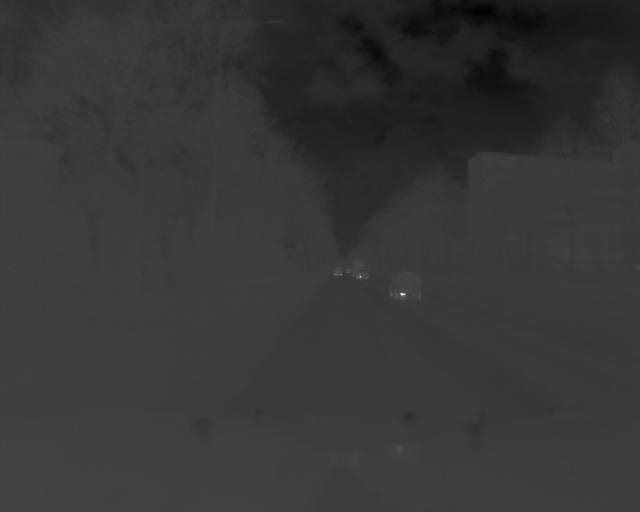car: (393, 270, 438, 306), (335, 262, 349, 276), (357, 267, 369, 278)
